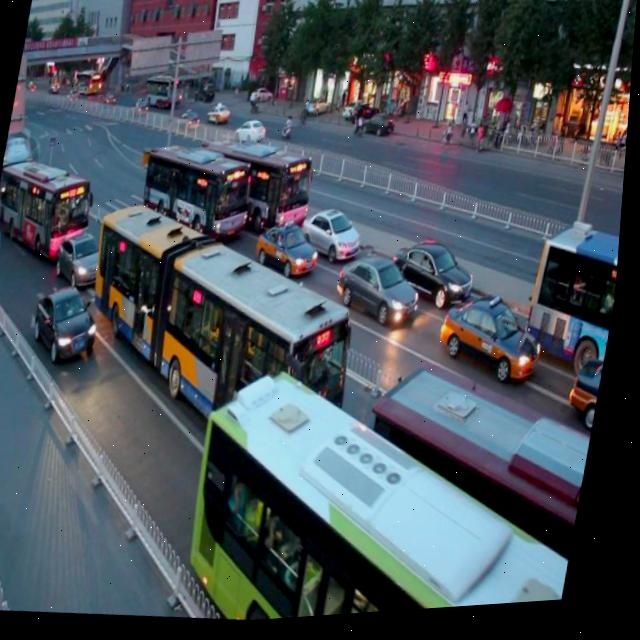car: (436, 289, 555, 399), (332, 246, 428, 337), (391, 234, 484, 316), (30, 281, 109, 371), (252, 213, 326, 286), (297, 199, 368, 271), (55, 227, 115, 293), (568, 354, 612, 434)
van: (182, 351, 608, 629), (60, 182, 384, 503), (345, 357, 608, 620), (522, 222, 625, 383), (134, 130, 262, 256), (194, 126, 324, 244), (0, 147, 101, 257)
